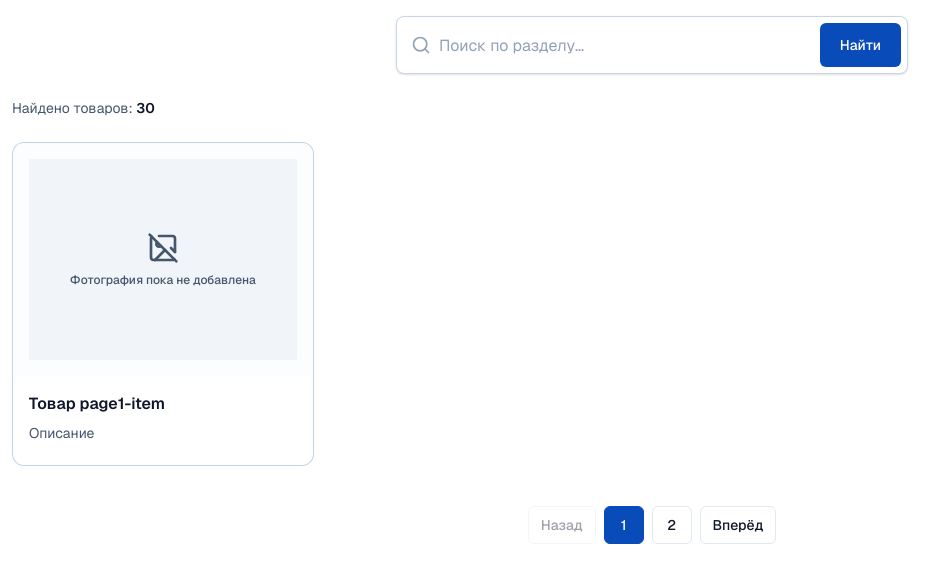
Scenario: ClientCatalogSearch: productRouting (кросс-категорийные ссылки для /catalog и vehicle-type) › после перехода на следующую страницу (пагинация) ссылки тоже строятся через productRouting
Click the link "Вперёд". click: x=738, y=525
box: [700,506,776,544]
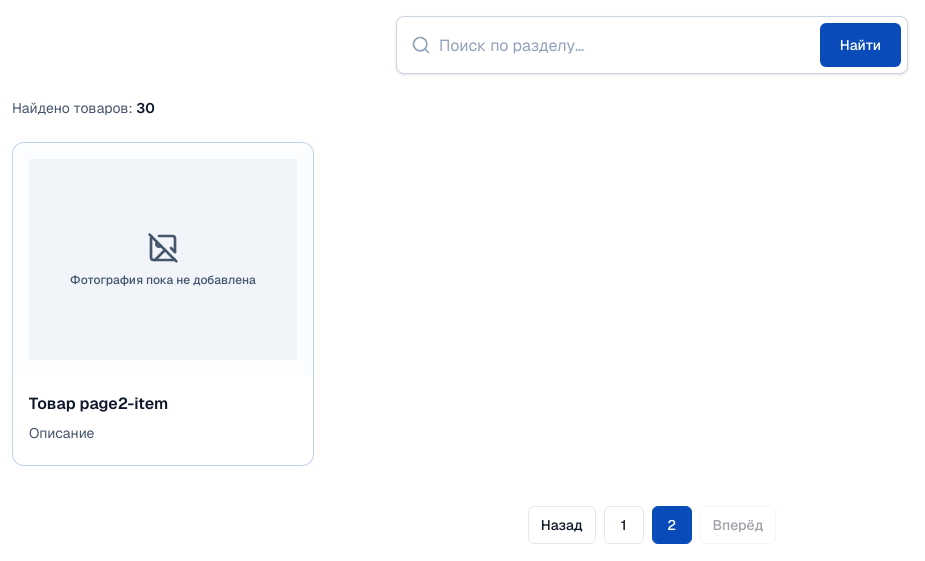
Check: the text "Товар page2-item" is shown, box [29,393,168,414]
